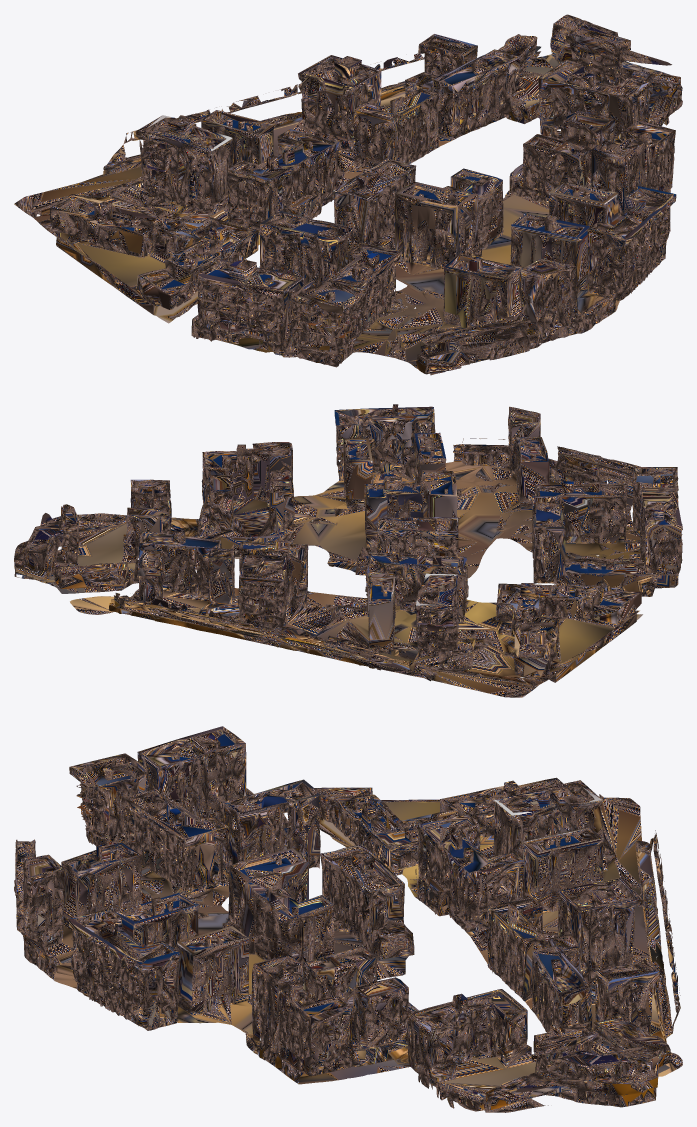
The model's file is construction-12.glb.
3 views of the same model, one above another, from view 1: azimuth 30°, elevation 25°; view 2: azimuth 150°, elevation 25°; view 3: azimuth 270°, elevation 25° (orthographic). The views are drawn at different scales.
Size of the model in its own units: 1.62 by 0.2213 by 1.4.
1 material, 1 textured.
